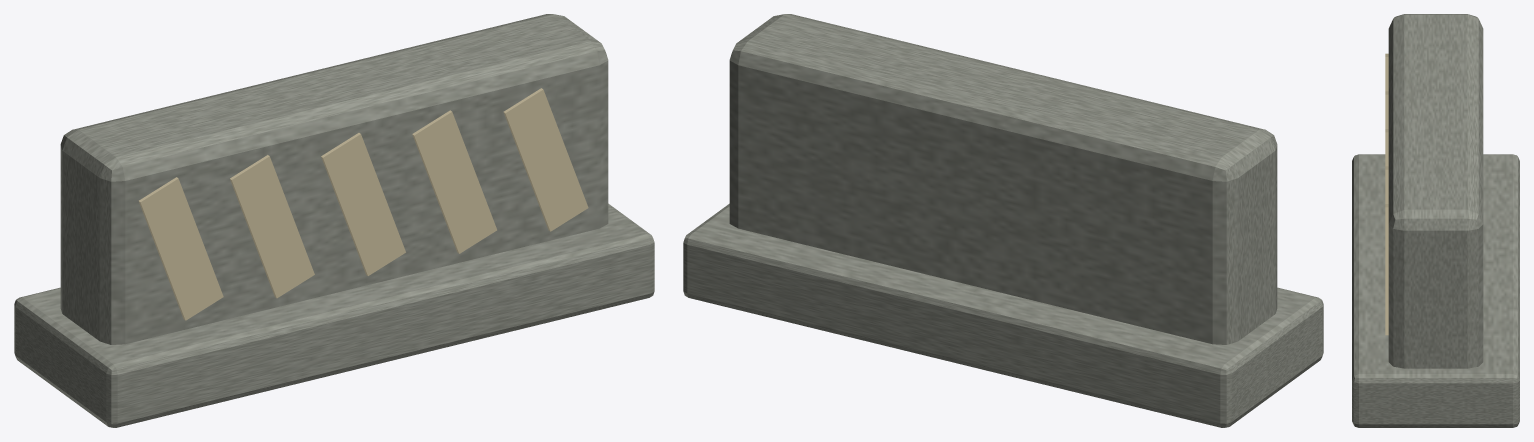
Rendered from barrier.glb.
3 renders of one model, left to right at view 1: azimuth 30°, elevation 25°; view 2: azimuth 150°, elevation 25°; view 3: azimuth 270°, elevation 25°, orthographic. The views are drawn at different scales.
Visible parts, largest first — view 1: ConcreteBarrier; view 2: ConcreteBarrier; view 3: ConcreteBarrier.
Part boxes in pixels (bbox=[...]): ConcreteBarrier: bbox=[14, 14, 654, 427]; ConcreteBarrier: bbox=[683, 14, 1323, 427]; ConcreteBarrier: bbox=[1352, 14, 1519, 427].
Size of the model in its own units: 2.7 by 1.15 by 0.85.
Materials: 2 (1 with a texture image).
